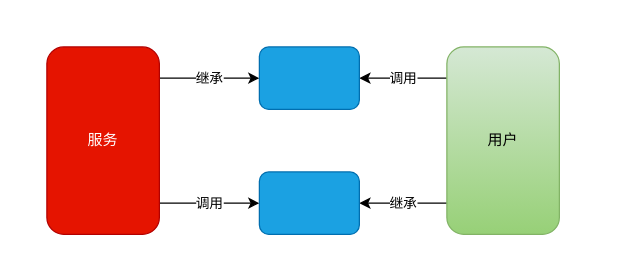
The diagram is 618 pixels wide and 280 high, and some of its shapes have lost their labels. The shapes that lost their labels are listed below. From the top down, each one's box as (x1, y1, x2, y2) in pixels, then its label:
(258, 46, 359, 109): API
(258, 171, 359, 234): SPI
